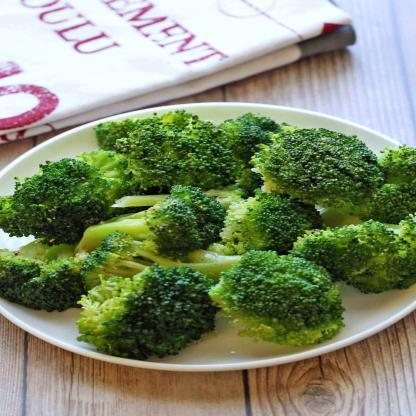broccoli: (0, 106, 416, 360)
